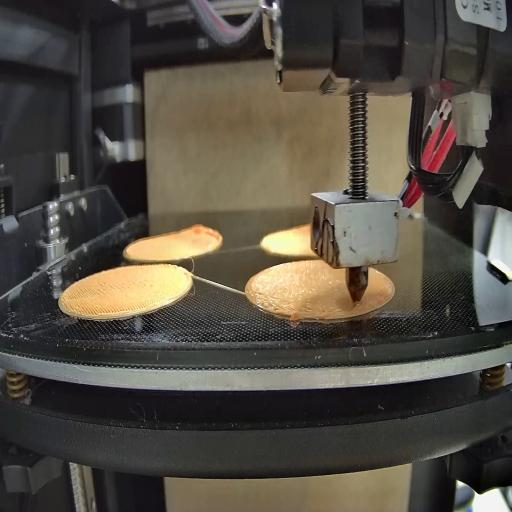over_extrusion: (187, 218, 222, 242), (345, 302, 371, 313)
